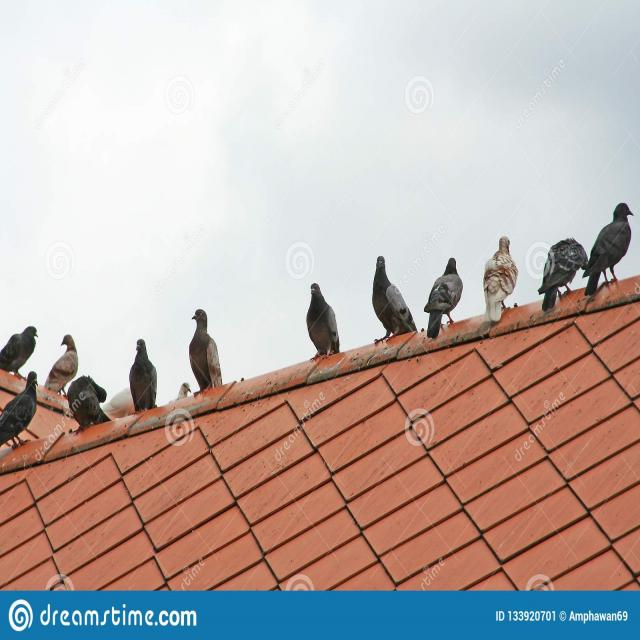bird: (581, 201, 636, 297), (371, 255, 419, 342), (537, 236, 589, 313), (423, 256, 463, 340), (482, 235, 519, 323), (188, 308, 224, 396), (0, 370, 39, 449), (65, 373, 114, 433), (305, 282, 341, 361), (43, 333, 80, 398), (128, 338, 158, 416), (0, 324, 39, 379), (176, 381, 193, 401)
